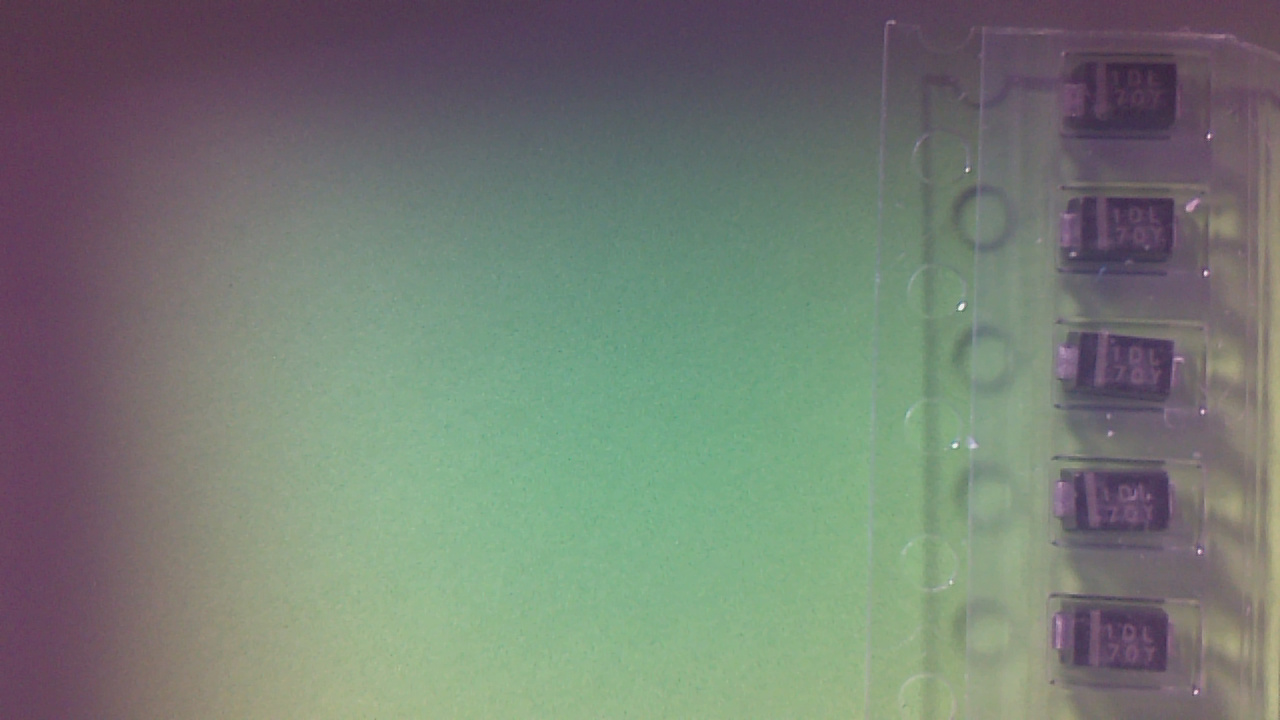Diode: (1061, 333, 1194, 408), (1063, 199, 1194, 271), (1056, 609, 1182, 677), (1070, 69, 1193, 135), (1061, 473, 1185, 538)
